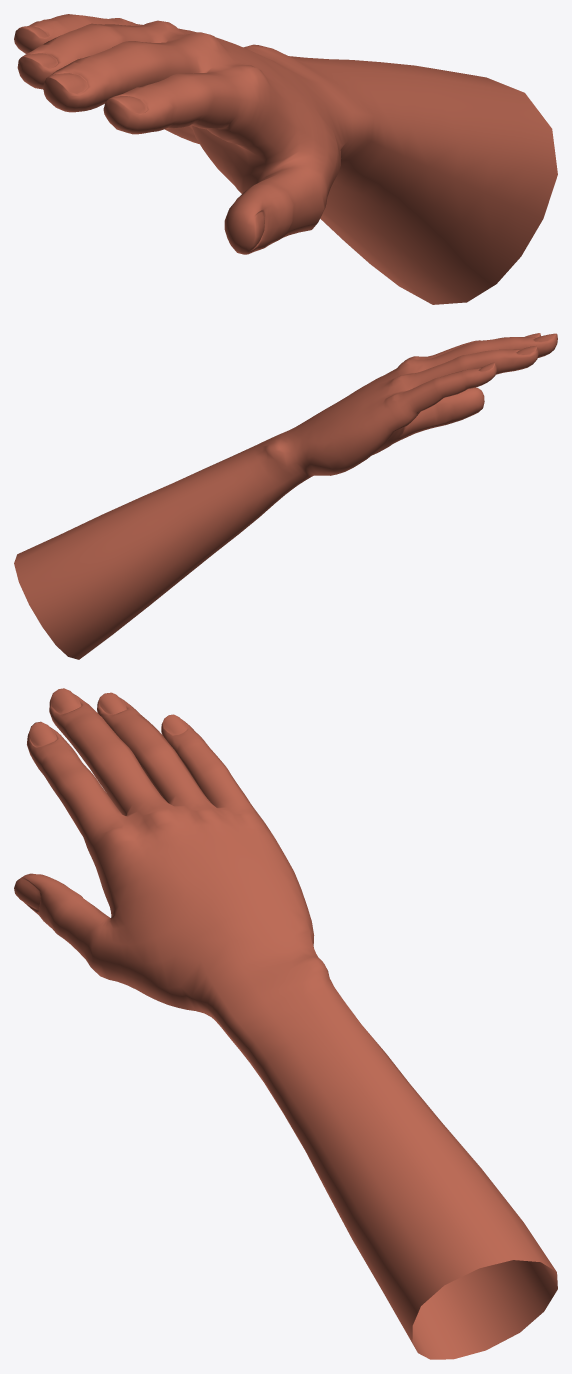
File: arm.glb
3 views of the same model, one above another, from view 1: azimuth 30°, elevation 25°; view 2: azimuth 150°, elevation 25°; view 3: azimuth 270°, elevation 25° (orthographic). The views are drawn at different scales.
Visible parts, largest first — view 1: Рука без всего; view 2: Рука без всего; view 3: Рука без всего.
Part boxes in pixels (box(x1,y1,x2,y2)): Рука без всего: box(14, 14, 557, 304); Рука без всего: box(14, 333, 557, 659); Рука без всего: box(14, 688, 557, 1359).
Bounding box in the file's own units: 0.1234 × 0.0892 × 0.1013.
